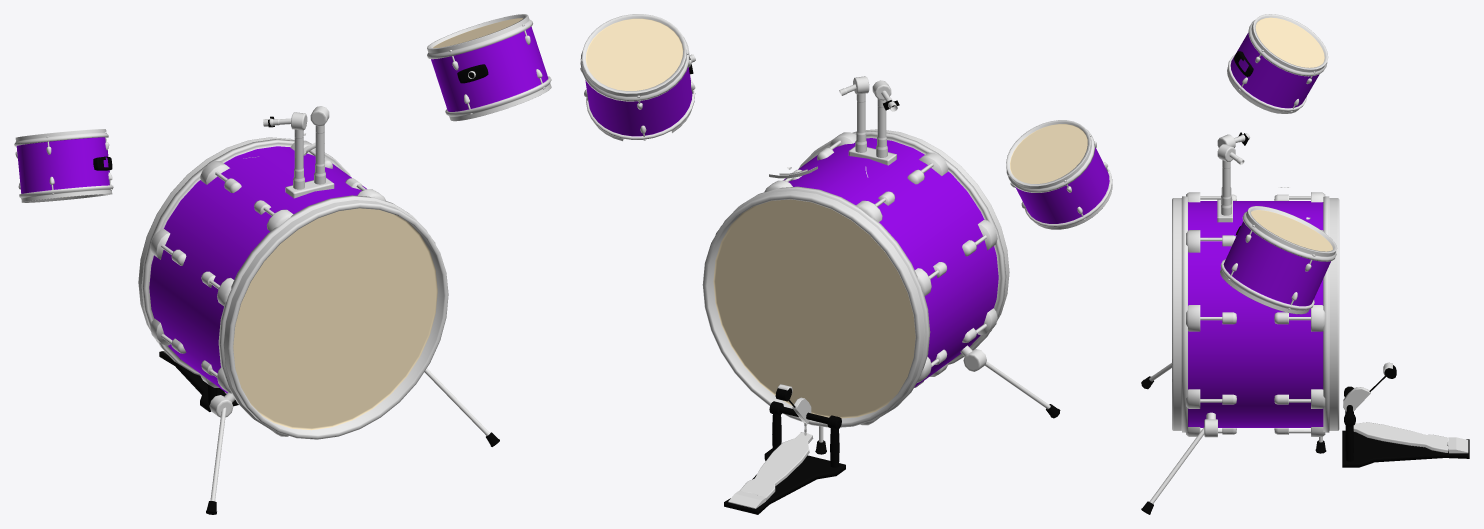
The model's file is DrumSeperated.fbx.
3 views of the same model, side by side, from view 1: azimuth 30°, elevation 25°; view 2: azimuth 150°, elevation 25°; view 3: azimuth 270°, elevation 25° (orthographic). The views are drawn at different scales.
Visible parts, largest first — view 1: BassDrum_LOD0, BassDrum_LOD0.001, BassDrum_LOD0.002; view 2: BassDrum_LOD0, BassDrum_LOD0.001, BassDrum_LOD0.002; view 3: BassDrum_LOD0, BassDrum_LOD0.001, BassDrum_LOD0.002.
Boxes of the visible parts, x1=… form: BassDrum_LOD0: x1=138, y1=106, x2=499, y2=514; BassDrum_LOD0.001: x1=427, y1=14, x2=551, y2=121; BassDrum_LOD0.002: x1=14, y1=129, x2=113, y2=202; BassDrum_LOD0: x1=702, y1=76, x2=1060, y2=514; BassDrum_LOD0.001: x1=580, y1=14, x2=695, y2=141; BassDrum_LOD0.002: x1=1006, y1=120, x2=1112, y2=229; BassDrum_LOD0: x1=1141, y1=132, x2=1469, y2=514; BassDrum_LOD0.001: x1=1220, y1=206, x2=1337, y2=314; BassDrum_LOD0.002: x1=1227, y1=14, x2=1328, y2=113.
Size of what is drawn, in the model's own units: 1018 by 676 by 607.
